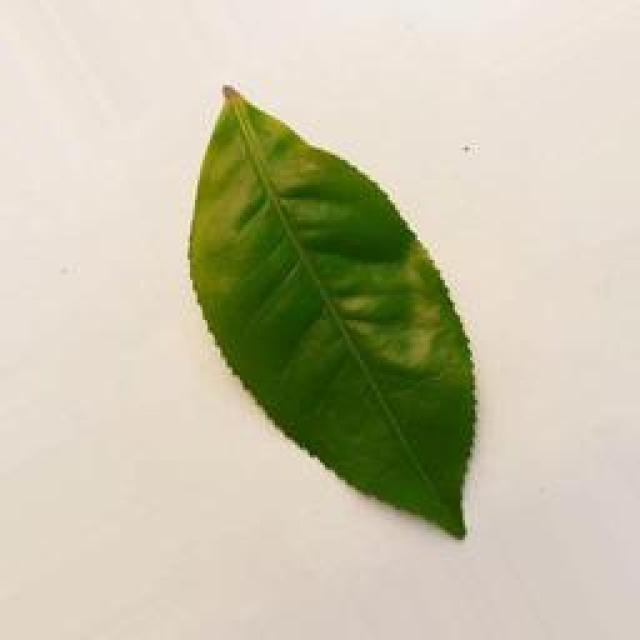Healthy: (185, 78, 480, 544)
